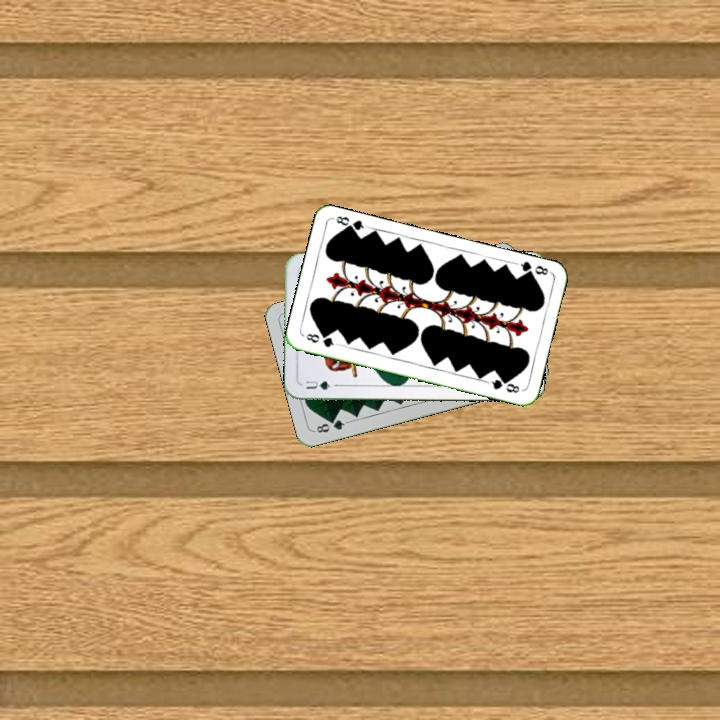G8: (512, 257, 553, 280), (310, 415, 350, 435), (302, 329, 340, 350)
GU: (300, 377, 333, 392)
